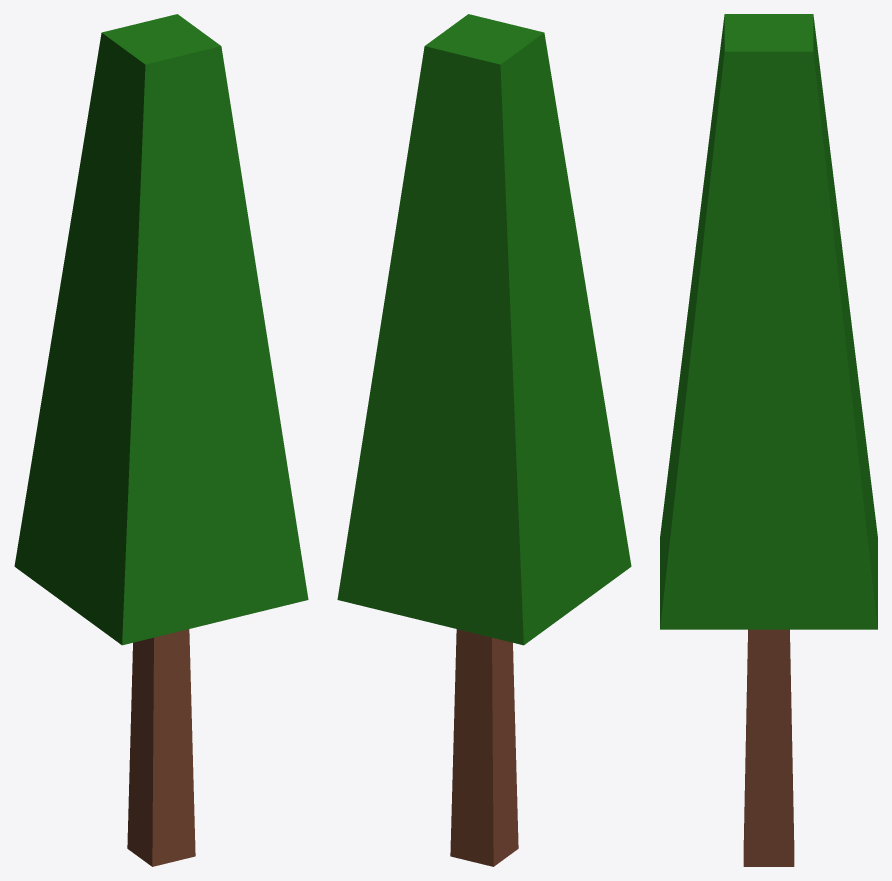
Rendered from Tree_26_summer_vc.fbx.
3 views of the same model, side by side, from view 1: azimuth 30°, elevation 25°; view 2: azimuth 150°, elevation 25°; view 3: azimuth 270°, elevation 25° (orthographic).
Parts seen in each view (by area): view 1: Tree_26_summer_vc; view 2: Tree_26_summer_vc; view 3: Tree_26_summer_vc.
Part boxes in pixels (x1,y1,x2,y2): Tree_26_summer_vc: (14, 14, 308, 866); Tree_26_summer_vc: (337, 14, 631, 866); Tree_26_summer_vc: (660, 14, 877, 866).
Size of the model in its own units: 63.19 by 263 by 63.19.
